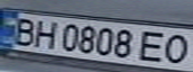0: (57, 20, 81, 53), (93, 25, 118, 56)
8: (112, 26, 139, 60), (75, 22, 96, 55)
B: (6, 15, 42, 46)
E: (136, 28, 172, 63)
H: (30, 18, 60, 50)
O: (157, 32, 193, 65)
